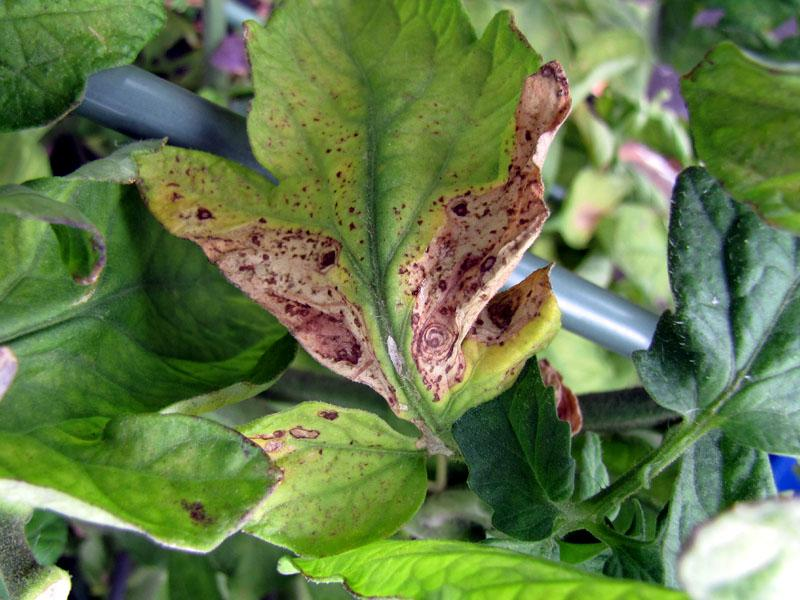Tomato Early blight leaf: (158, 0, 591, 483)
